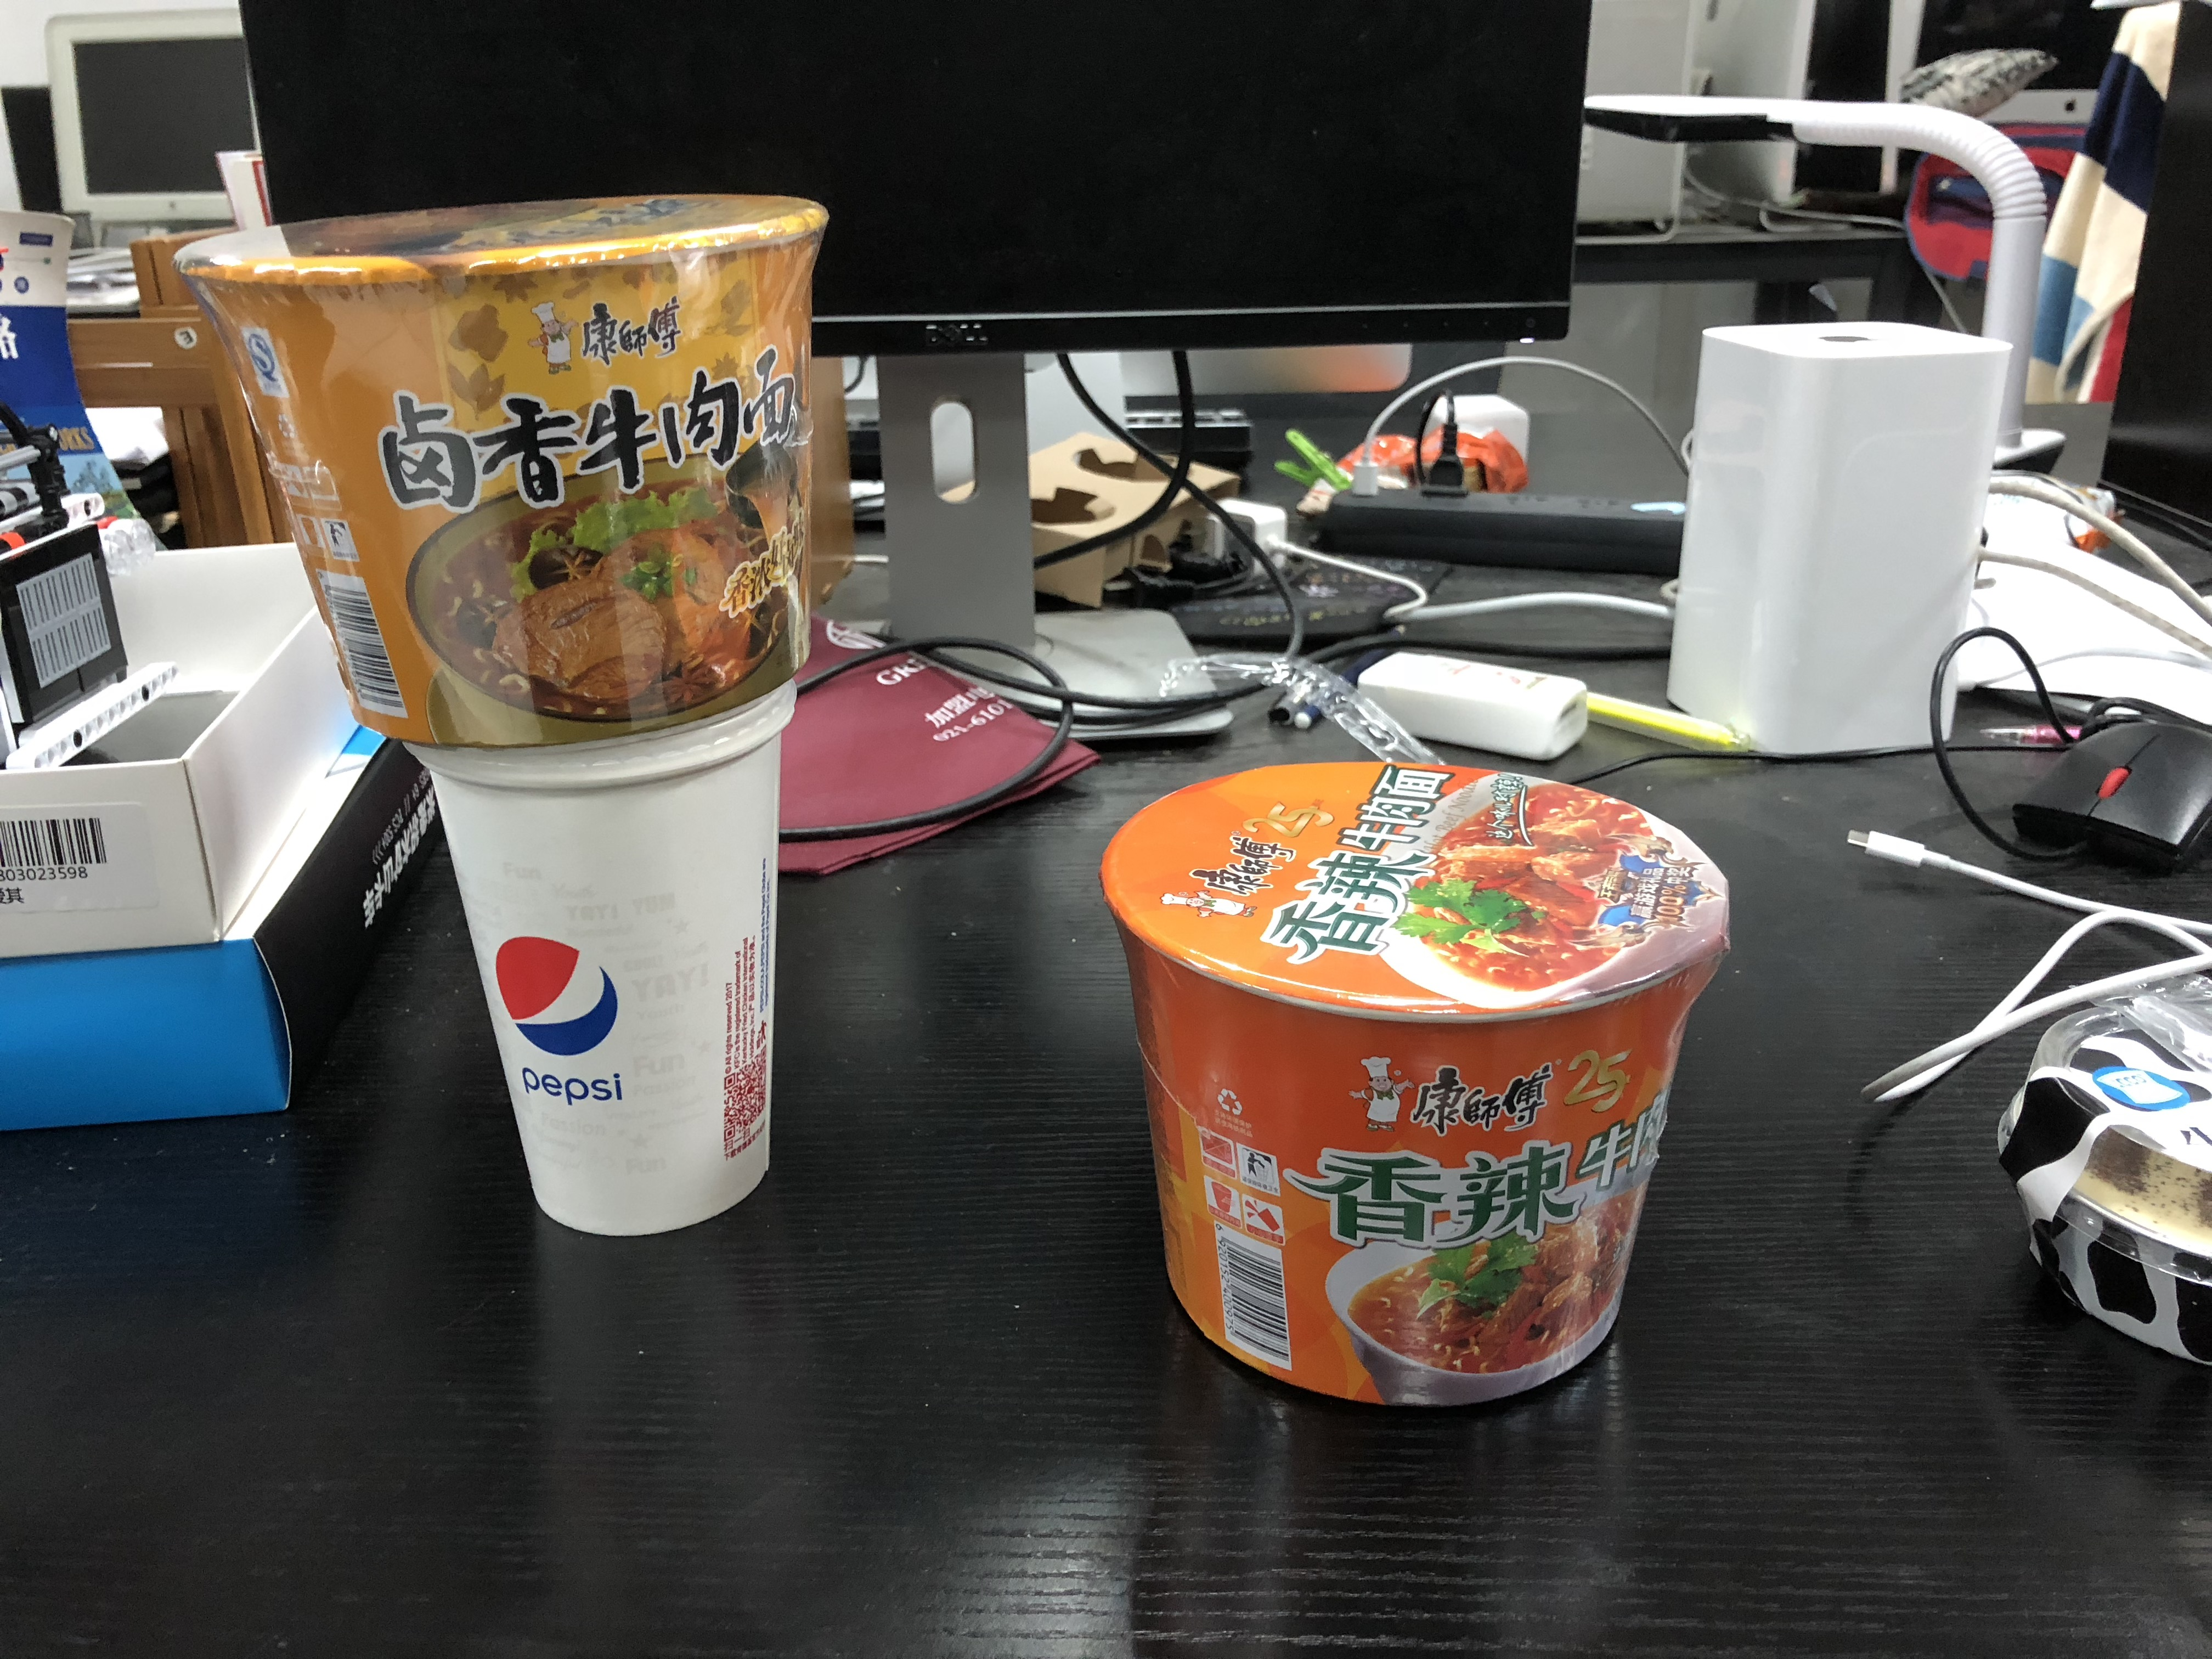luxiang: (172, 192, 831, 751)
xiangla: (1099, 760, 1735, 1410)
